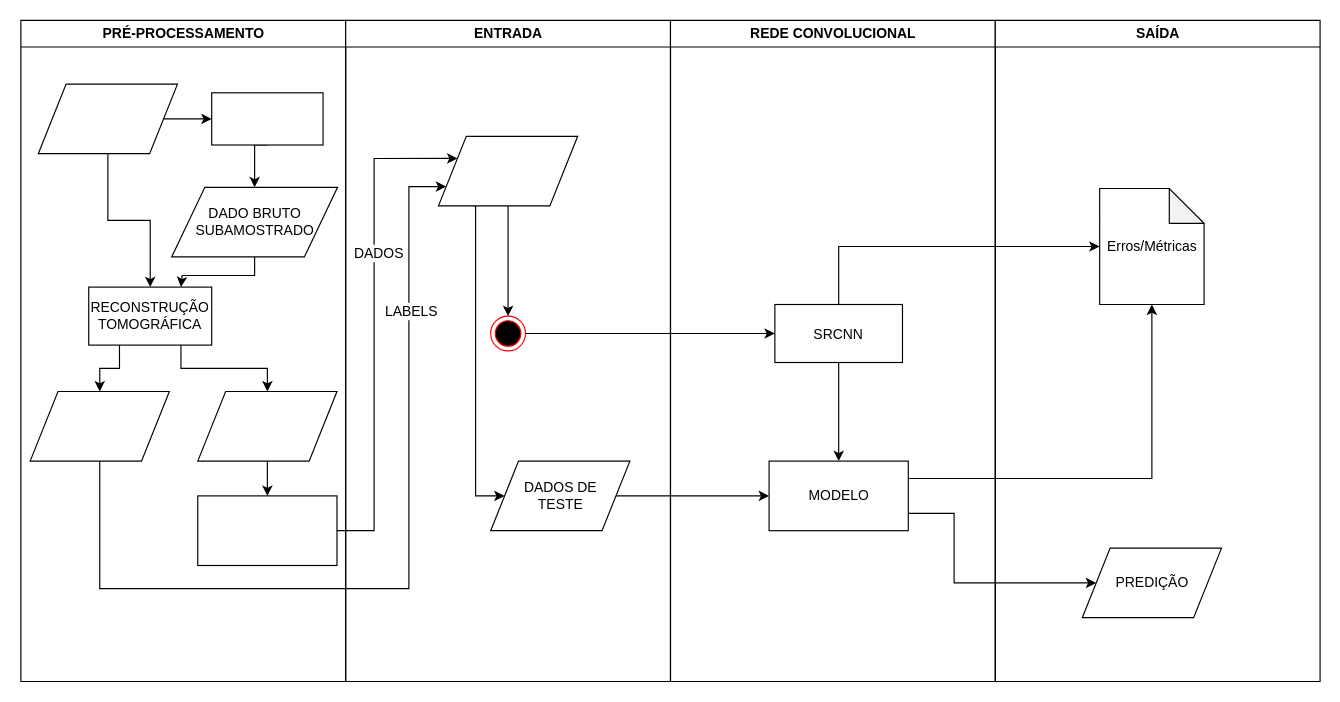
The diagram is 1340 pixels wide and 702 high, and some of its shapes have lost their labels. The shapes that lost their labels are listed below. From the top down, each one's box as (x1, y1, x2, y2) in pixels, then its label:
(37, 83, 177, 154): DADO BRUTO
(211, 92, 323, 145): SUB-AMOSTRAGEM
(437, 135, 578, 206): DADOS E LABELS
(29, 390, 169, 461): PADRÃO OURO
(197, 390, 337, 461): AMOSTRAS
(197, 495, 337, 566): INTERPOLAÇÃO BICÚBICA
